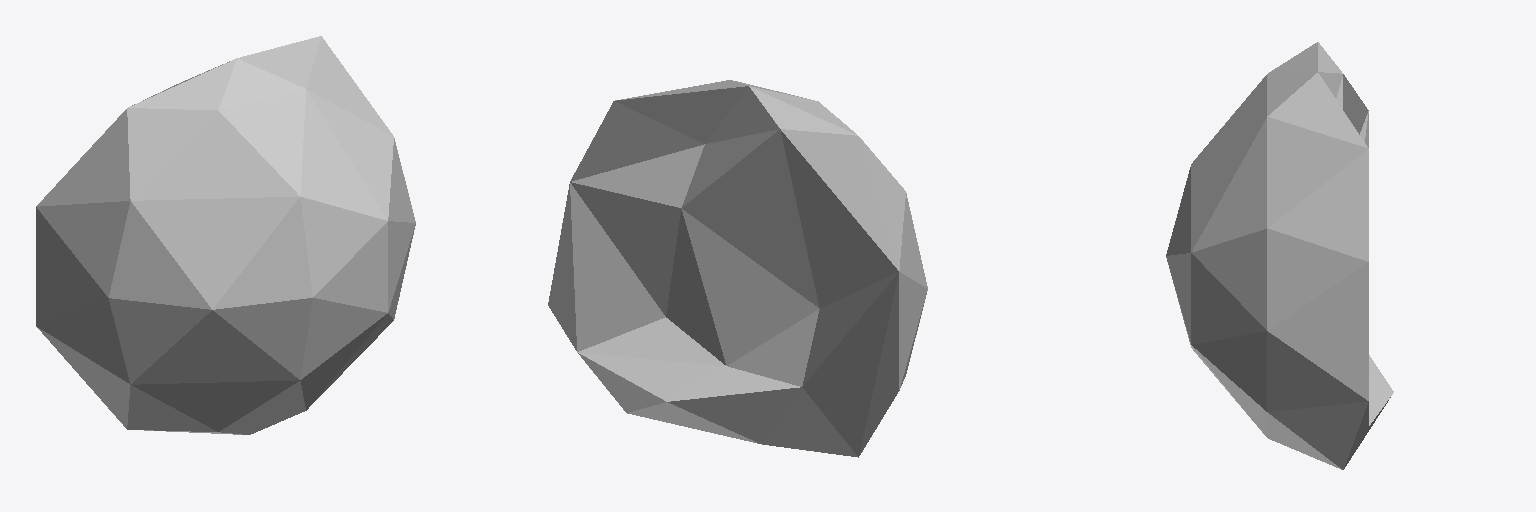
The model's file is base_ball_destroyed_side.obj.
The picture shows the model from 3 angles: view 1: azimuth 30°, elevation 25°; view 2: azimuth 150°, elevation 25°; view 3: azimuth 270°, elevation 25°; orthographic projection.
Parts seen in each view (by area): view 1: Icosphere; view 2: Icosphere; view 3: Icosphere.
Boxes of the visible parts, x1,y1,x2,y2 form: Icosphere: [36, 36, 415, 434]; Icosphere: [548, 80, 927, 457]; Icosphere: [1166, 42, 1393, 469].
Size of the model in its own units: 16 by 16 by 9.